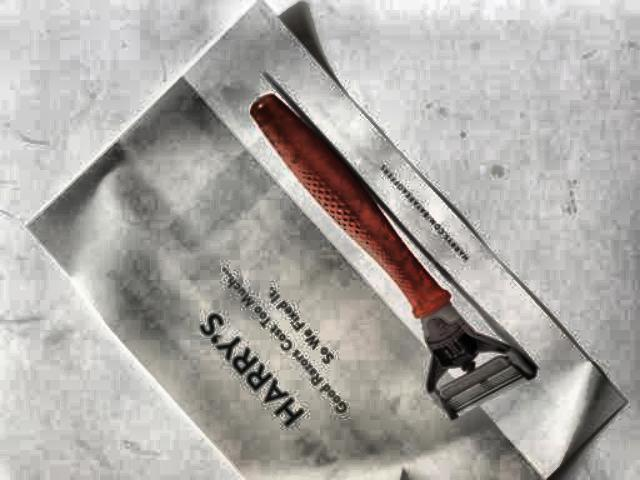Paper: (0, 3, 610, 479)
